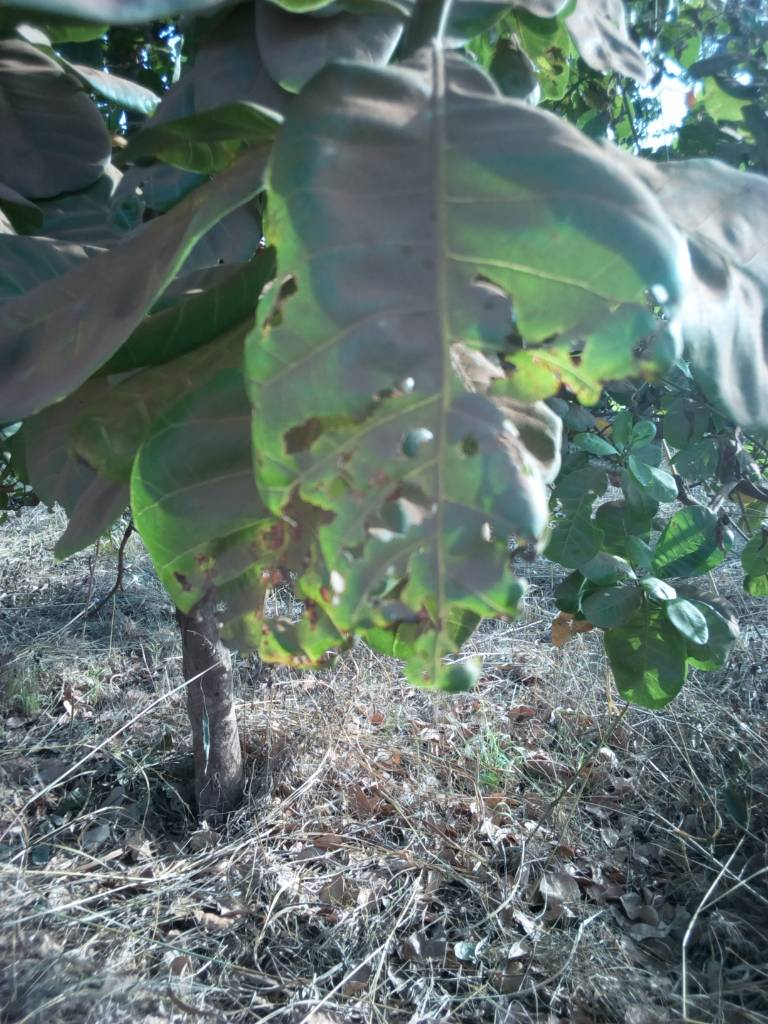Anoplocnemis curvipes: (258, 82, 632, 664)
